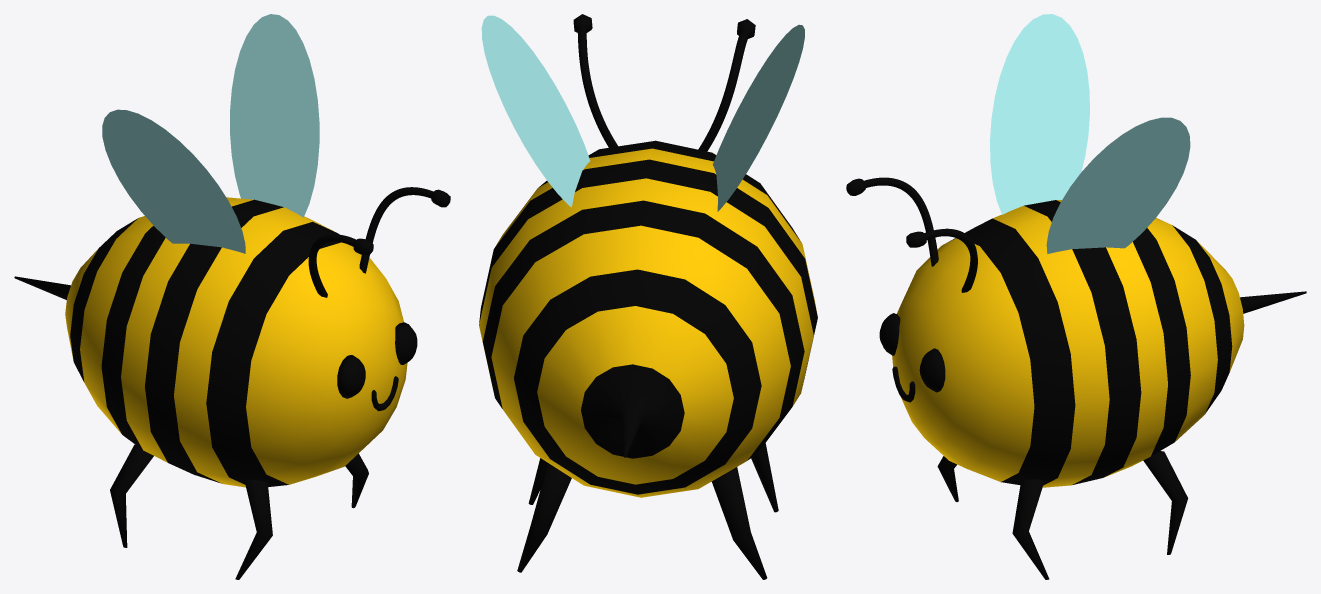
The model's file is beee.fbx.
3 views of the same model, side by side, from view 1: azimuth 30°, elevation 25°; view 2: azimuth 150°, elevation 25°; view 3: azimuth 270°, elevation 25° (orthographic). The views are drawn at different scales.
Parts seen in each view (by area): view 1: Cylinder.002; view 2: Cylinder.002; view 3: Cylinder.002.
Part boxes in pixels (left/top/right/bottom): Cylinder.002: left=14, top=14, right=450, bottom=579; Cylinder.002: left=479, top=14, right=817, bottom=579; Cylinder.002: left=846, top=14, right=1306, bottom=579.
Size of the model in its own units: 2.5 by 4.07 by 3.74.
